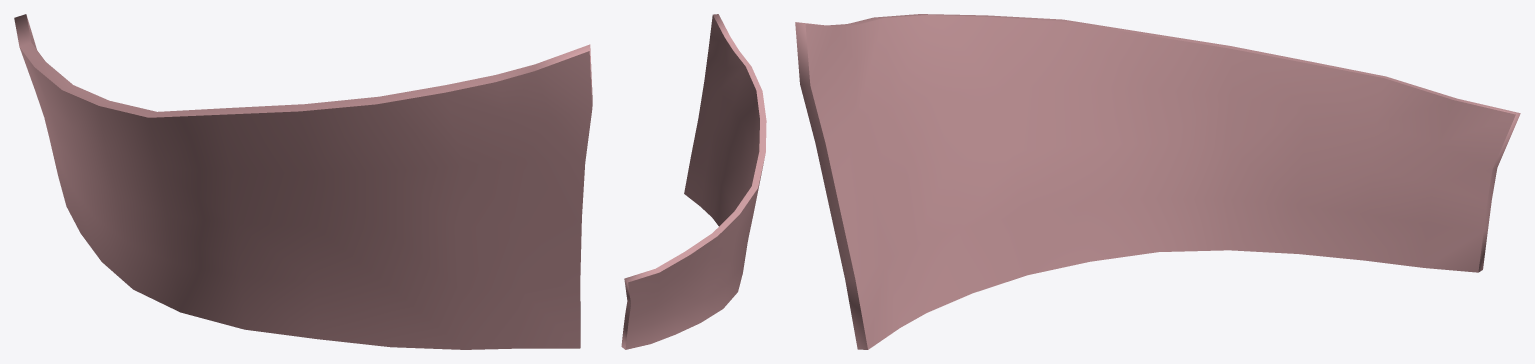
3 views of the same model, side by side, from view 1: azimuth 30°, elevation 25°; view 2: azimuth 150°, elevation 25°; view 3: azimuth 270°, elevation 25° (orthographic). The views are drawn at different scales.
Visible parts, largest first — view 1: ZA_5f0cf27c10c815b4; view 2: ZA_5f0cf27c10c815b4; view 3: ZA_5f0cf27c10c815b4.
Part boxes in pixels (x1,y1,x2,y2): ZA_5f0cf27c10c815b4: (14,14,592,349); ZA_5f0cf27c10c815b4: (621,14,766,349); ZA_5f0cf27c10c815b4: (795,14,1520,349).
Size of the model in its own units: 0.08 by 0.0903 by 0.1761.
